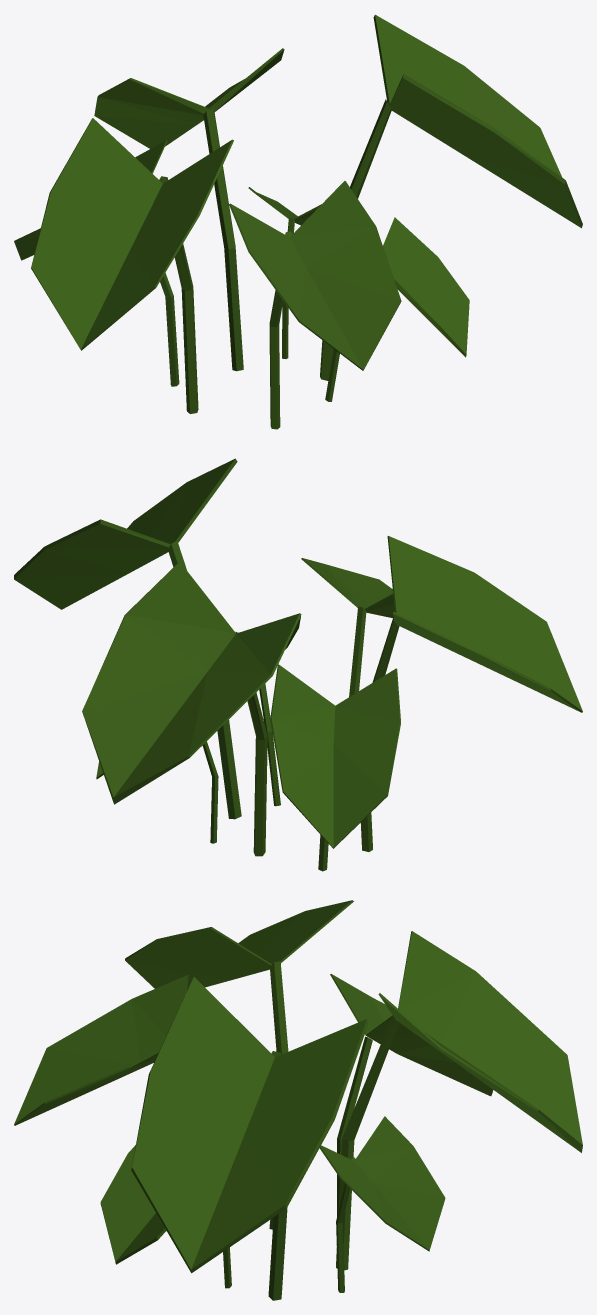
File: anthurium.glb
3 renders of one model, top to bottom at view 1: azimuth 30°, elevation 25°; view 2: azimuth 150°, elevation 25°; view 3: azimuth 270°, elevation 25°, orthographic. The views are drawn at different scales.
Parts seen in each view (by area): view 1: Anthurium_Plane.004; view 2: Anthurium_Plane.004; view 3: Anthurium_Plane.004.
Boxes of the visible parts, x1,y1,x2,y2 form: Anthurium_Plane.004: (14,14,582,429); Anthurium_Plane.004: (14,458,582,871); Anthurium_Plane.004: (14,900,582,1300).
Size of the model in its own units: 2.32 by 1.37 by 2.07.
